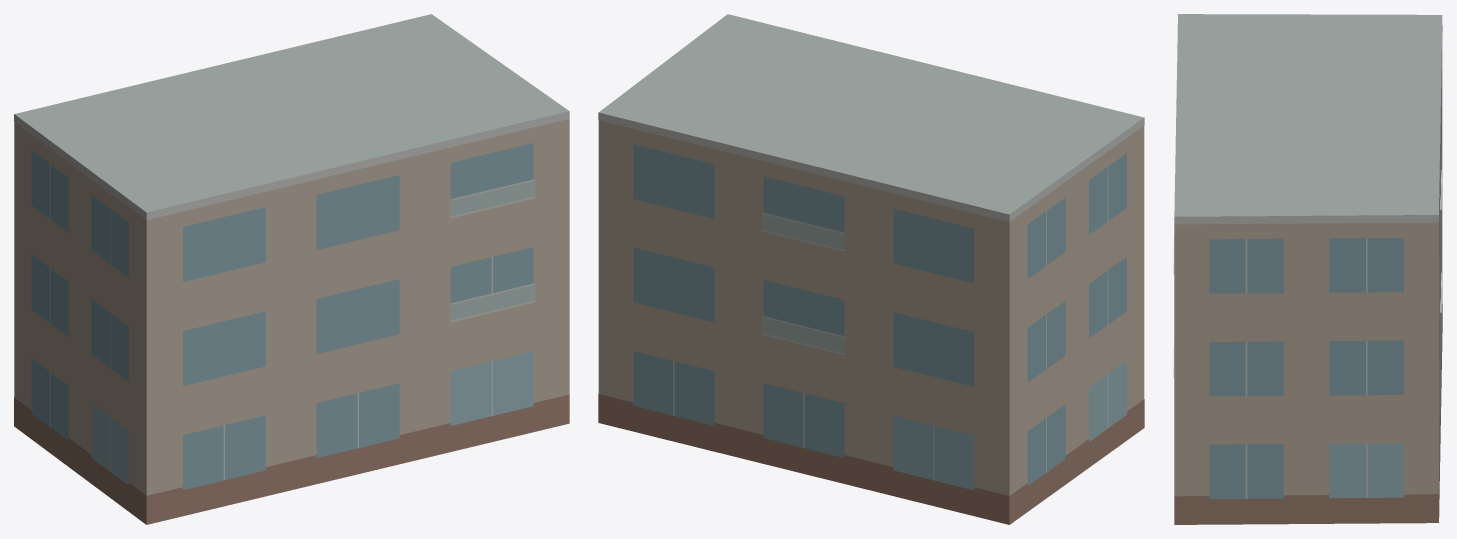
File: survey-upis-32991079.glb
3 views of the same model, side by side, from view 1: azimuth 30°, elevation 25°; view 2: azimuth 150°, elevation 25°; view 3: azimuth 270°, elevation 25° (orthographic).
Visible parts, largest first — view 1: survey-upis-32991079.tmp; view 2: survey-upis-32991079.tmp; view 3: survey-upis-32991079.tmp.
Boxes of the visible parts, box(x1,y1,x2,y2) form: survey-upis-32991079.tmp: box(14, 14, 569, 524); survey-upis-32991079.tmp: box(598, 14, 1144, 524); survey-upis-32991079.tmp: box(1173, 14, 1442, 524).
Bounding box in the file's own units: 13.98 × 9.9 × 7.85.
